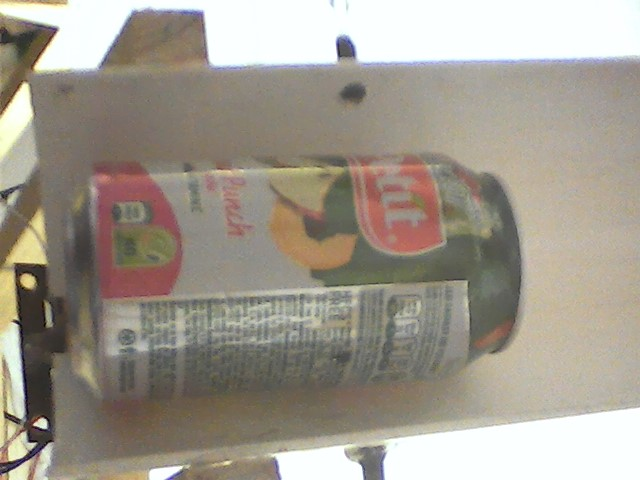lata: (59, 143, 542, 417)
